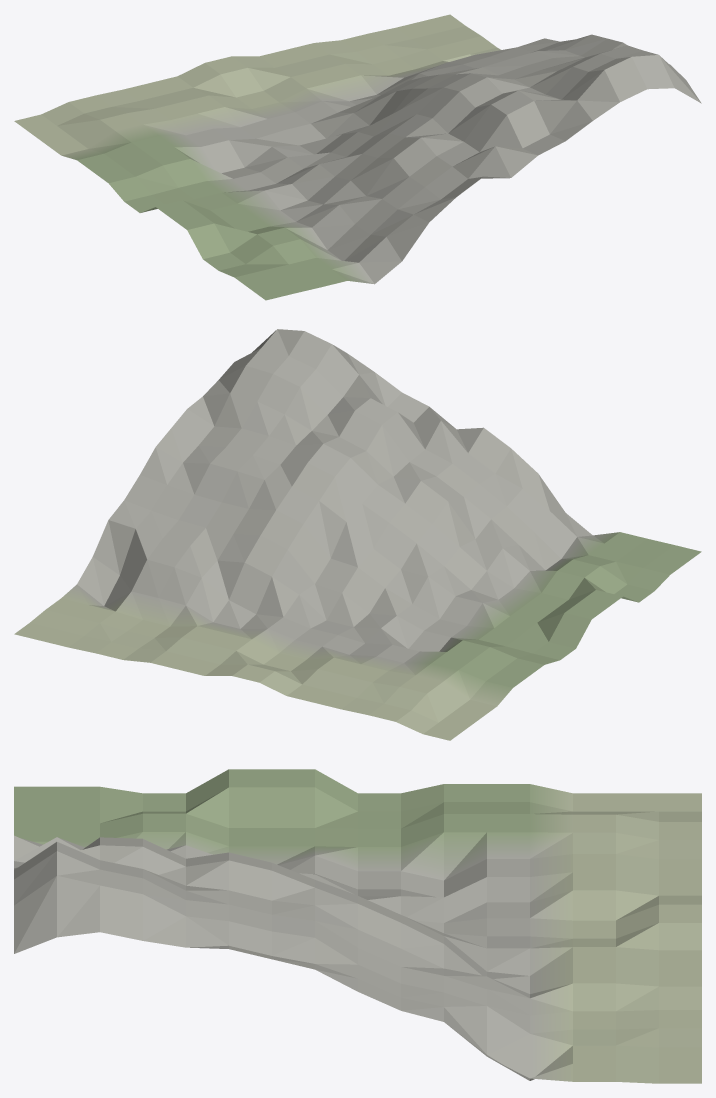
3 renders of one model, top to bottom at view 1: azimuth 30°, elevation 25°; view 2: azimuth 150°, elevation 25°; view 3: azimuth 270°, elevation 25°, orthographic. The views are drawn at different scales.
Size of the model in its own units: 32 by 10.88 by 32.
